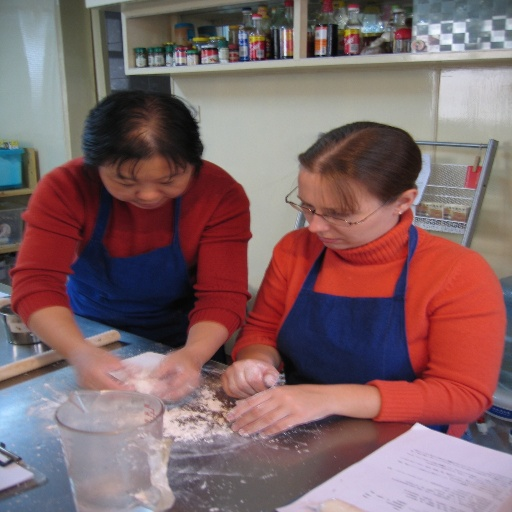hand: (226, 386, 328, 436), (139, 349, 204, 402), (72, 343, 139, 392), (215, 357, 282, 401)
